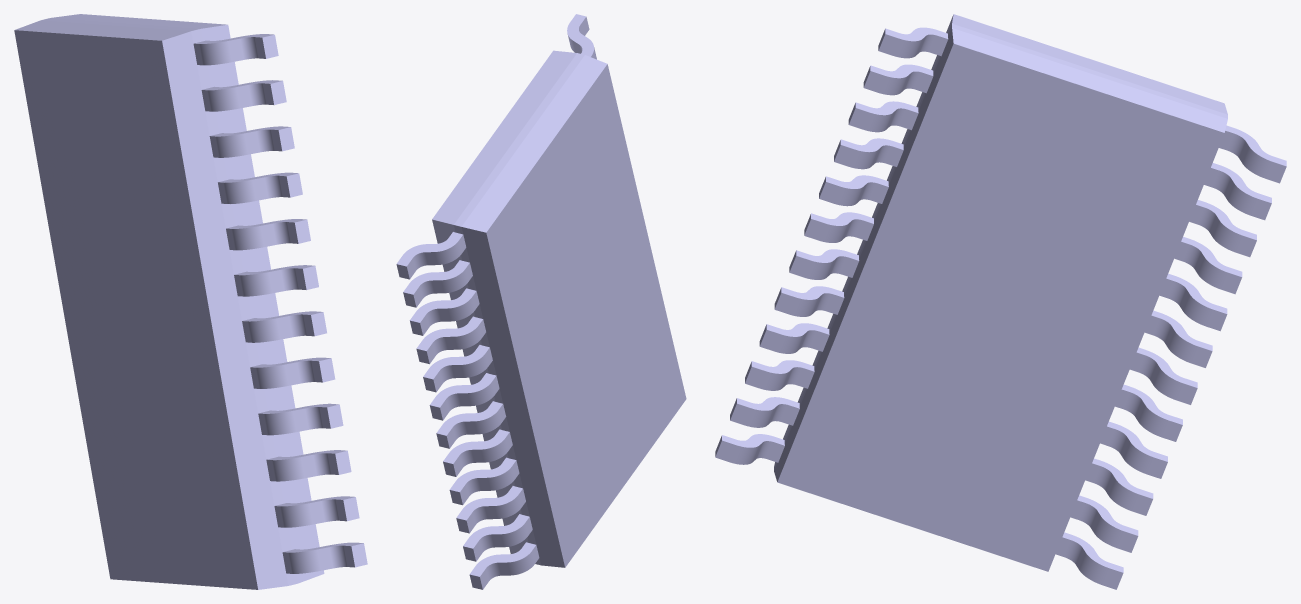
Rendered from EBoxNewAsm_stp_1_IMC413_stp_1_IMC413_8_stp_1_solid1.obj.
The picture shows the model from 3 angles, left to right: view 1: azimuth 30°, elevation 25°; view 2: azimuth 150°, elevation 25°; view 3: azimuth 270°, elevation 25°; orthographic projection. The views are drawn at different scales.
Parts seen in each view (by area): view 1: mesh10673, mesh10672, mesh10733, mesh10674, mesh10735, mesh10597, mesh10625, mesh10653, mesh10667, mesh10692, mesh10567, mesh10583 (+6 smaller); view 2: mesh10673, mesh10824, mesh10674, mesh10735, mesh10895, mesh10732, mesh10904, mesh10754, mesh10834, mesh10848, mesh10782, mesh10810 (+7 smaller); view 3: mesh10734, mesh10735, mesh10733, mesh10674, mesh10732.
Boxes of the visible parts, <box> form: mesh10673: <box>14,30,257,589</box>; mesh10672: <box>162,31,288,589</box>; mesh10733: <box>201,24,324,583</box>; mesh10674: <box>14,20,190,40</box>; mesh10735: <box>51,14,226,28</box>; mesh10597: <box>263,411,296,435</box>; mesh10625: <box>247,318,280,342</box>; mesh10653: <box>231,226,264,250</box>; mesh10667: <box>223,179,256,203</box>; mesh10692: <box>215,133,248,157</box>; mesh10567: <box>280,503,312,527</box>; mesh10583: <box>272,457,304,481</box>; mesh10673: <box>486,64,686,567</box>; mesh10824: <box>461,227,564,567</box>; mesh10674: <box>461,55,607,232</box>; mesh10735: <box>432,50,576,224</box>; mesh10895: <box>432,219,528,553</box>; mesh10732: <box>454,53,584,226</box>; mesh10904: <box>469,542,535,576</box>; mesh10754: <box>403,260,469,294</box>; mesh10834: <box>436,401,502,435</box>; mesh10848: <box>443,429,509,463</box>; mesh10782: <box>416,316,482,350</box>; mesh10810: <box>430,373,496,407</box>; mesh10734: <box>777,44,1224,571</box>; mesh10735: <box>952,28,1227,132</box>; mesh10733: <box>774,28,953,481</box>; mesh10674: <box>952,14,1227,114</box>; mesh10732: <box>952,23,1227,118</box>.
Size of the model in its own units: 0.0012 by 0.00919 by 0.00856.
